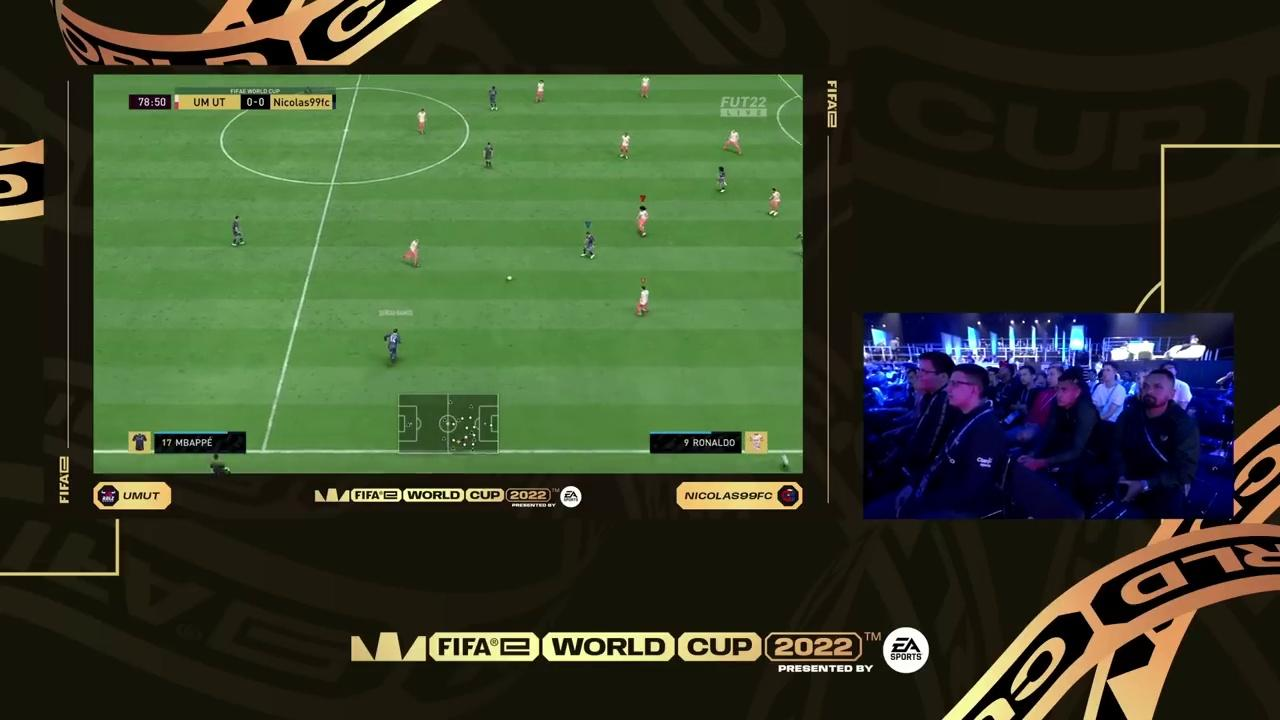timestamp: (127, 94, 175, 110)
